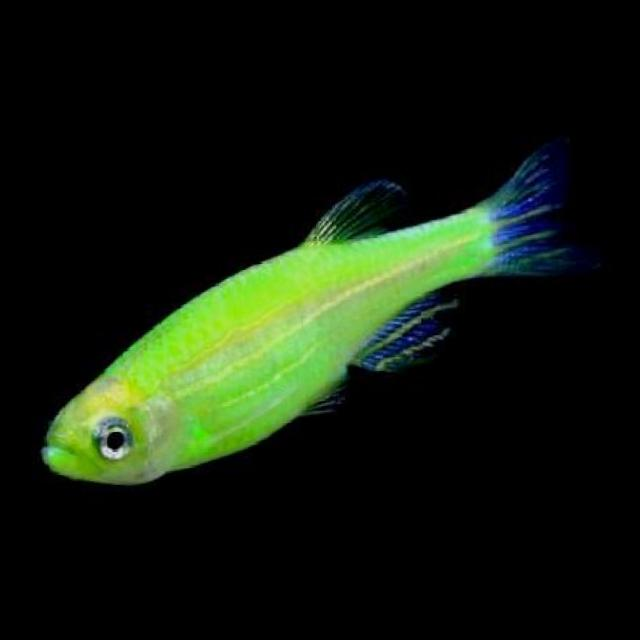ZebraFish: (22, 137, 596, 486)
